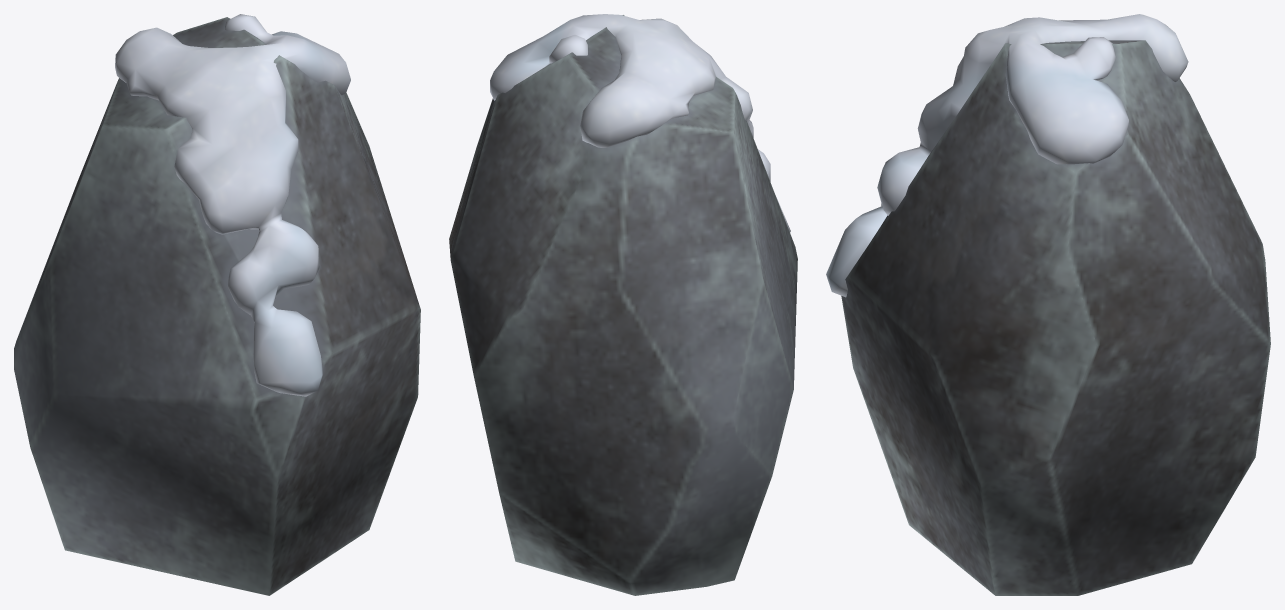
The model's file is Roca 2.glb.
3 renders of one model, left to right at view 1: azimuth 30°, elevation 25°; view 2: azimuth 150°, elevation 25°; view 3: azimuth 270°, elevation 25°, orthographic. The views are drawn at different scales.
Parts seen in each view (by area): view 1: Roca2_low; view 2: Roca2_low; view 3: Roca2_low.
Boxes of the visible parts, x1,y1,x2,y2 form: Roca2_low: (14,14,420,595); Roca2_low: (449,14,797,595); Roca2_low: (826,14,1270,595).
Size of the model in its own units: 4.3 by 6.13 by 4.75.
1 material, 1 textured.
